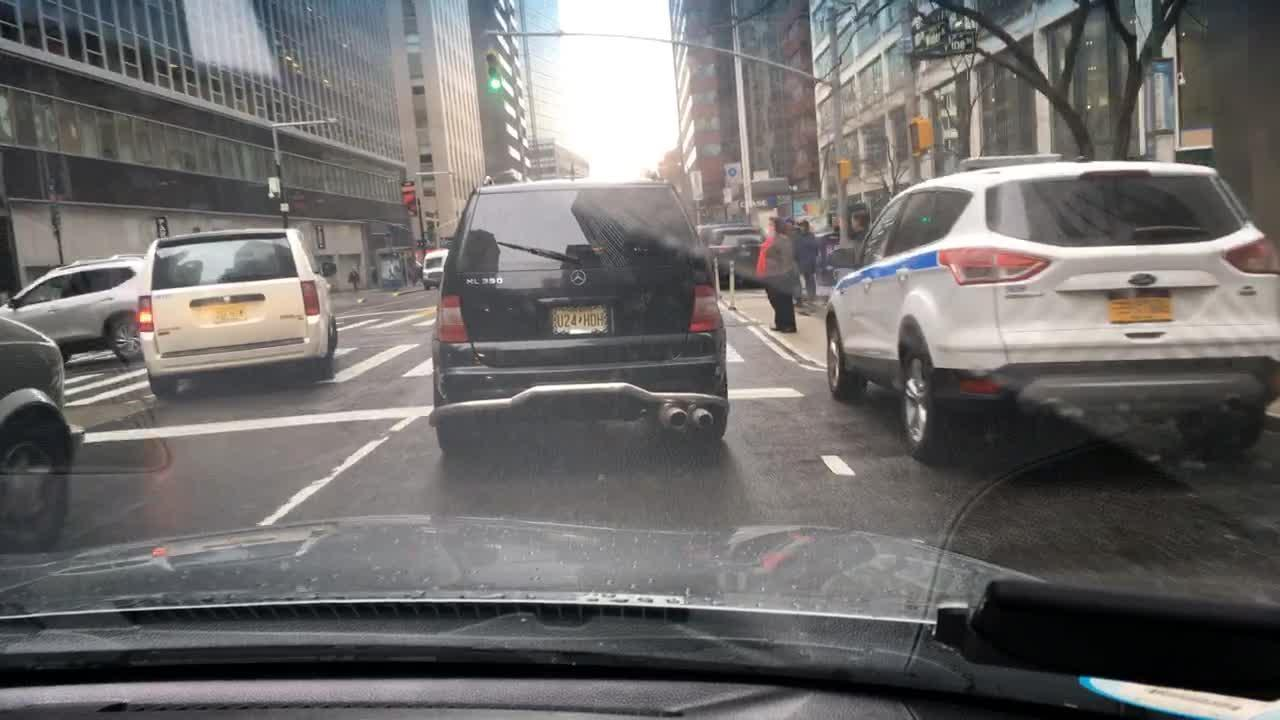Mercedes: (563, 266, 599, 291)
ford: (1120, 266, 1161, 294)
